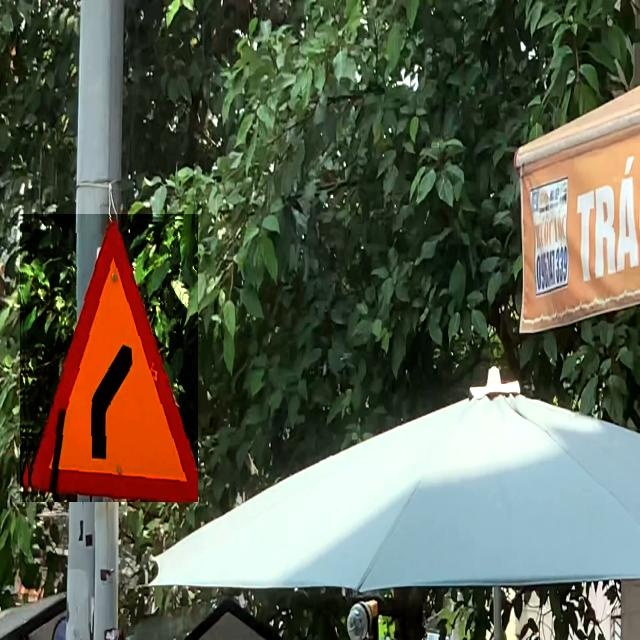bien_nguy_hiem: (20, 215, 198, 502)
